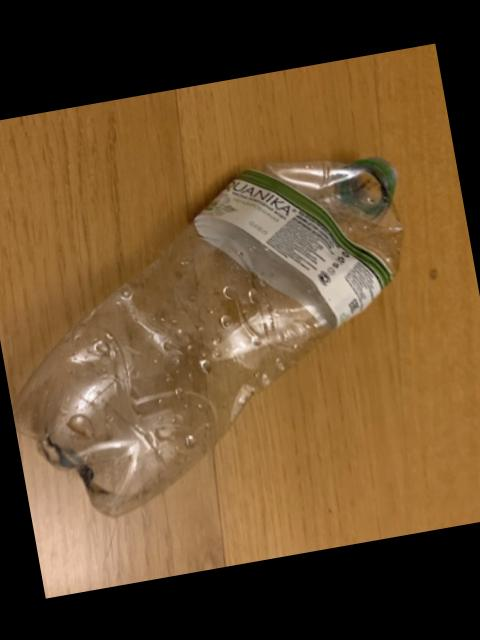plastic: (12, 154, 403, 512)
